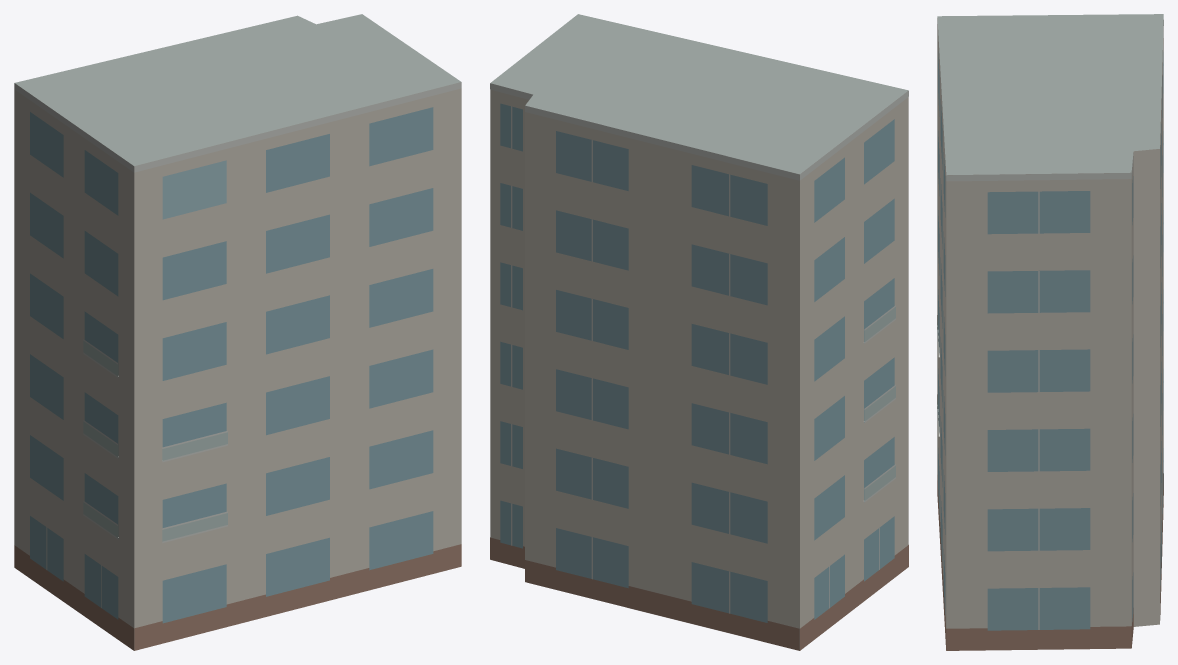
The model's file is survey-upis-32816869.glb.
3 renders of one model, left to right at view 1: azimuth 30°, elevation 25°; view 2: azimuth 150°, elevation 25°; view 3: azimuth 270°, elevation 25°, orthographic.
Parts seen in each view (by area): view 1: survey-upis-32816869.tmp; view 2: survey-upis-32816869.tmp; view 3: survey-upis-32816869.tmp.
Boxes of the visible parts, bbox=[...] form: survey-upis-32816869.tmp: bbox=[14, 14, 461, 650]; survey-upis-32816869.tmp: bbox=[490, 14, 908, 650]; survey-upis-32816869.tmp: bbox=[937, 14, 1163, 650].
Bounding box in the file's own units: 13.3 × 18.3 × 7.91.
